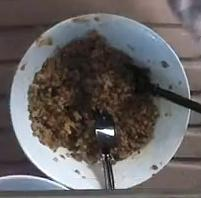cereal: (28, 30, 157, 162)
